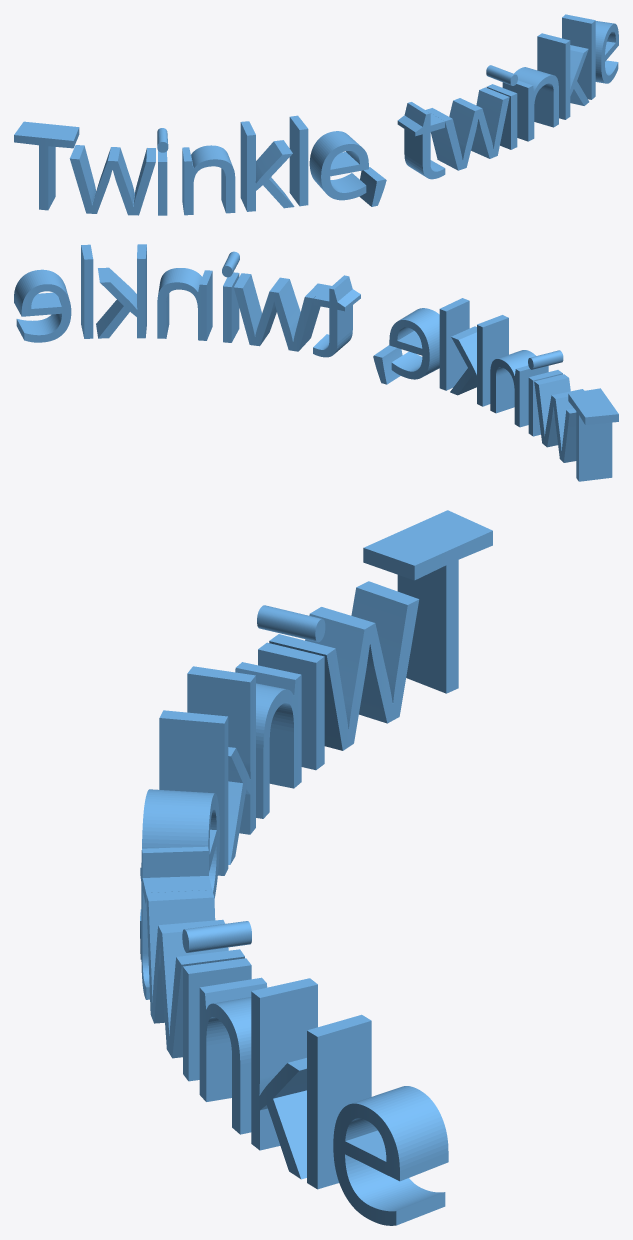
3 renders of one model, top to bottom at view 1: azimuth 30°, elevation 25°; view 2: azimuth 150°, elevation 25°; view 3: azimuth 270°, elevation 25°, orthographic. The views are drawn at different scales.
Parts seen in each view (by area): view 1: 3D Text - w0, 3D Text - w, 3D Text - e, 3D Text - k, 3D Text - n0, 3D Text - k0, 3D Text - T, 3D Text - t, 3D Text - n, 3D Text - l0, 3D Text - l, 3D Text - e0 (+3 smaller); view 2: 3D Text - w0, 3D Text - T, 3D Text - e0, 3D Text - k, 3D Text - e, 3D Text - w, 3D Text - n, 3D Text - k0, 3D Text - n0, 3D Text - t, 3D Text - l, 3D Text - i0 (+3 smaller); view 3: 3D Text - e0, 3D Text - w, 3D Text - T, 3D Text - k0, 3D Text - l0, 3D Text - w0, 3D Text - n0, 3D Text - k, 3D Text - l, 3D Text - n, 3D Text - i, 3D Text - i0 (+2 smaller).
Part boxes in pixels (box(x1,y1,x2,y2)): 3D Text - w0: box(425, 87, 509, 170); 3D Text - w: box(69, 145, 155, 215); 3D Text - e: box(309, 131, 368, 200); 3D Text - k: box(240, 121, 294, 211); 3D Text - n0: box(502, 67, 558, 141); 3D Text - k0: box(537, 33, 589, 119); 3D Text - T: box(14, 121, 79, 210); 3D Text - t: box(397, 102, 445, 179); 3D Text - n: box(182, 145, 235, 215); 3D Text - l0: box(562, 14, 595, 99); 3D Text - l: box(289, 115, 308, 206); 3D Text - e0: box(595, 21, 618, 83); 3D Text - w0: box(234, 273, 326, 351); 3D Text - T: box(568, 388, 618, 481); 3D Text - e0: box(14, 269, 71, 342); 3D Text - k: box(450, 315, 508, 406); 3D Text - e: box(389, 308, 439, 379); 3D Text - w: box(534, 374, 584, 462); 3D Text - n: box(490, 350, 548, 427); 3D Text - k0: box(96, 244, 146, 338); 3D Text - n0: box(157, 268, 212, 340); 3D Text - t: box(313, 275, 360, 357); 3D Text - l: box(439, 298, 469, 390); 3D Text - i0: box(222, 251, 239, 342); 3D Text - e0: box(333, 1086, 448, 1225); 3D Text - w: box(269, 581, 419, 750); 3D Text - T: box(363, 510, 492, 693); 3D Text - k0: box(251, 978, 317, 1179); 3D Text - l0: box(307, 1014, 371, 1189); 3D Text - w0: box(146, 890, 244, 1058); 3D Text - n0: box(199, 977, 267, 1134); 3D Text - k: box(187, 666, 255, 864); 3D Text - l: box(159, 710, 228, 875); 3D Text - n: box(235, 662, 301, 818); 3D Text - i: box(257, 605, 325, 770); 3D Text - i0: box(182, 921, 251, 1081).
Bounding box in the file's own units: 0.3091 × 0.0444 × 0.0797.
